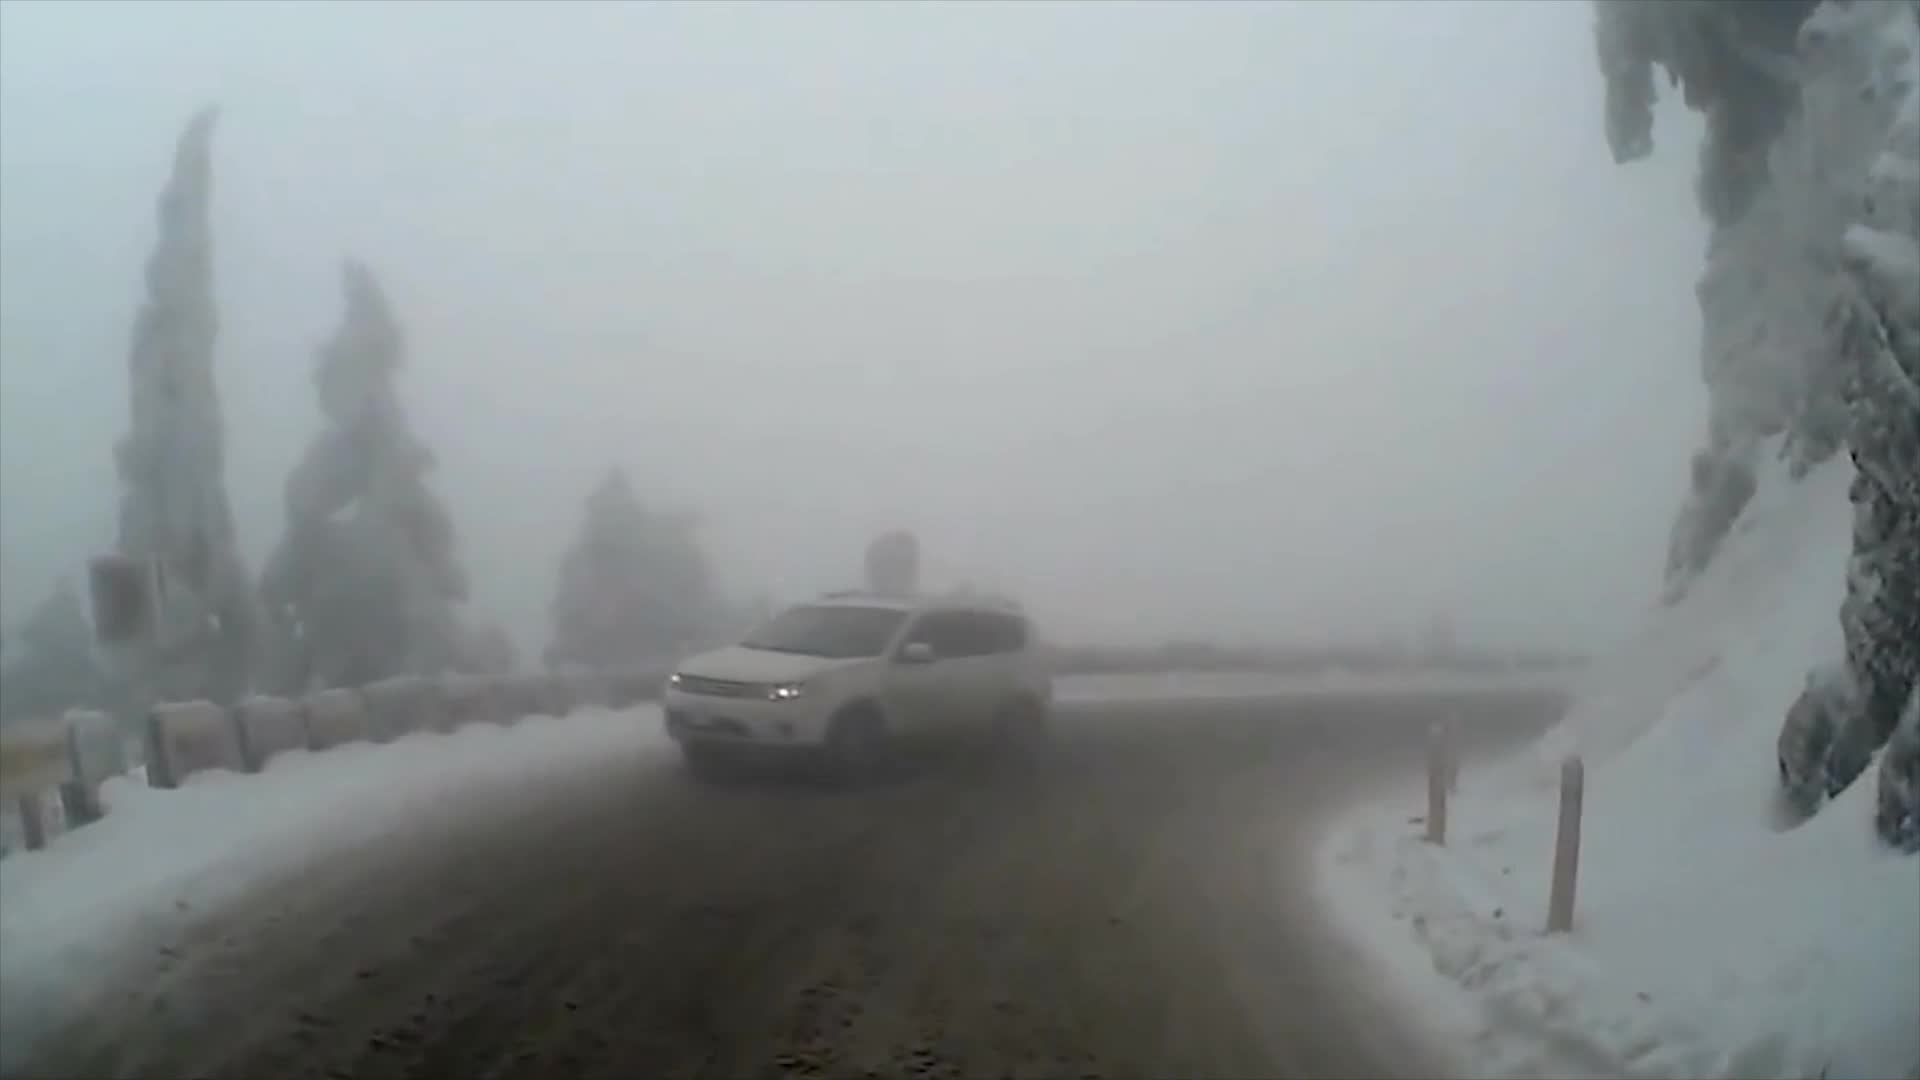vehicle: (659, 591, 1051, 803)
